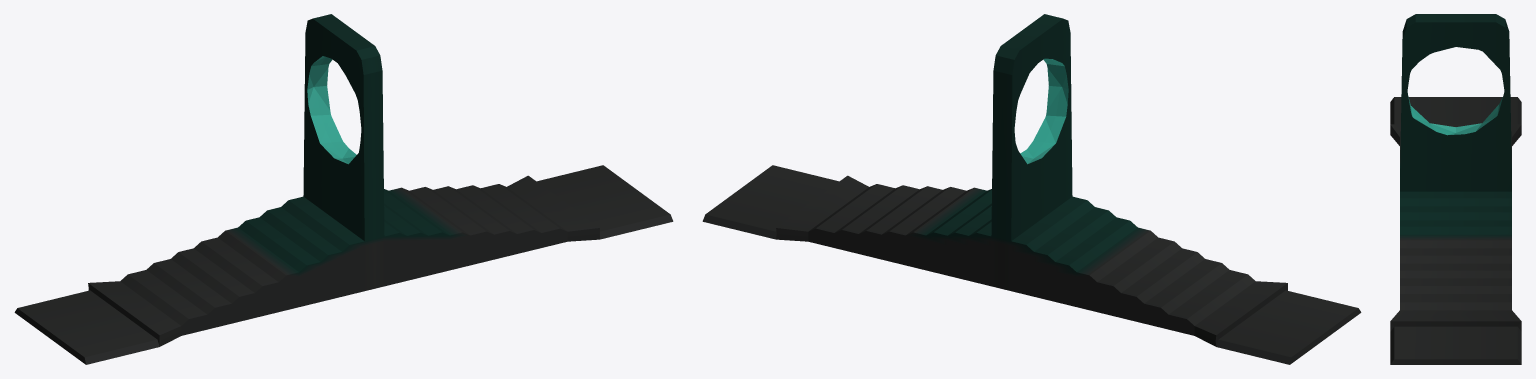
The model's file is BigStructure.glb.
3 renders of one model, left to right at view 1: azimuth 30°, elevation 25°; view 2: azimuth 150°, elevation 25°; view 3: azimuth 270°, elevation 25°, orthographic. The views are drawn at different scales.
Visible parts, largest first — view 1: Cube; view 2: Cube; view 3: Cube.
Part boxes in pixels (<box>): Cube: <box>14,14,673,364</box>; Cube: <box>702,14,1361,364</box>; Cube: <box>1390,14,1521,364</box>.
Size of the model in its own units: 56.94 by 21.75 by 12.03.
1 material, 1 textured.
